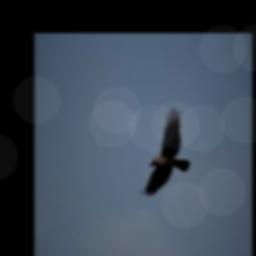Crow: (145, 107, 190, 196)
